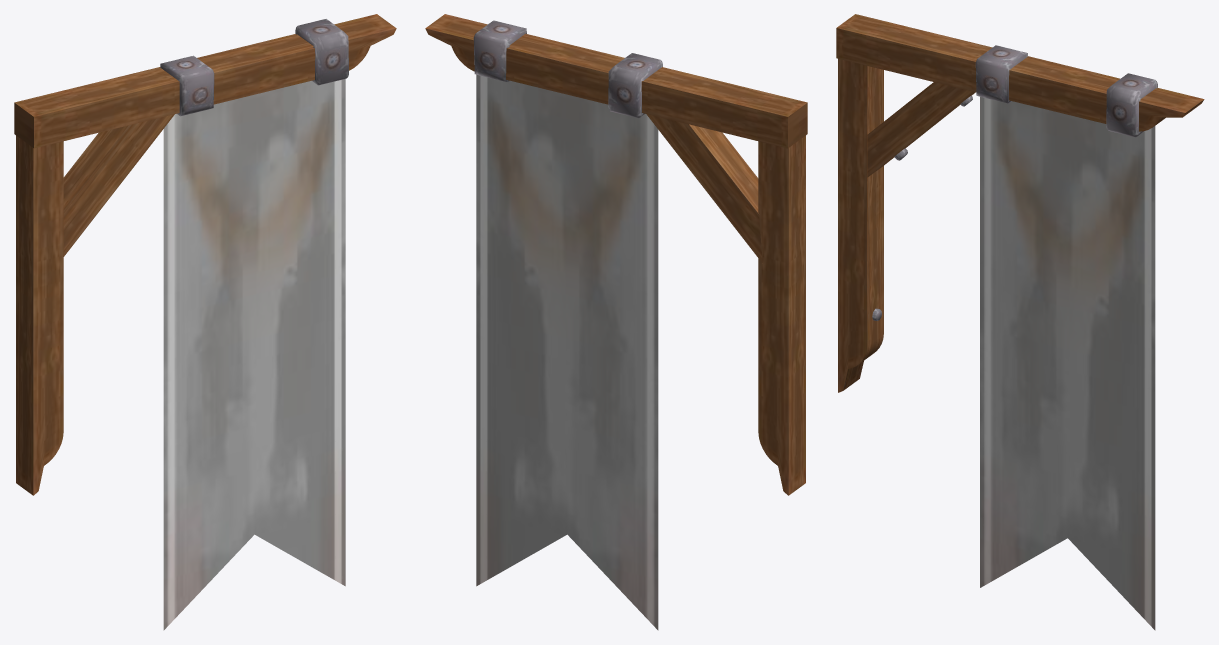
The model's file is prop-qp-banner-1.glb.
3 renders of one model, left to right at view 1: azimuth 30°, elevation 25°; view 2: azimuth 150°, elevation 25°; view 3: azimuth 330°, elevation 25°, orthographic. The views are drawn at different scales.
Parts seen in each view (by area): view 1: Cube_187; view 2: Cube_187; view 3: Cube_187.
Boxes of the visible parts, bbox=[...] form: Cube_187: bbox=[14, 14, 396, 630]; Cube_187: bbox=[425, 14, 807, 630]; Cube_187: bbox=[836, 14, 1204, 630].
Bounding box in the file's own units: 1.61 × 2.39 × 0.1906.
3 materials, 3 textured.
